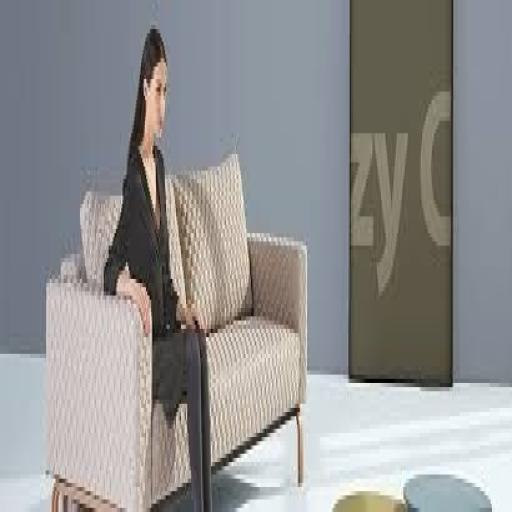sitting: (101, 21, 216, 508)
